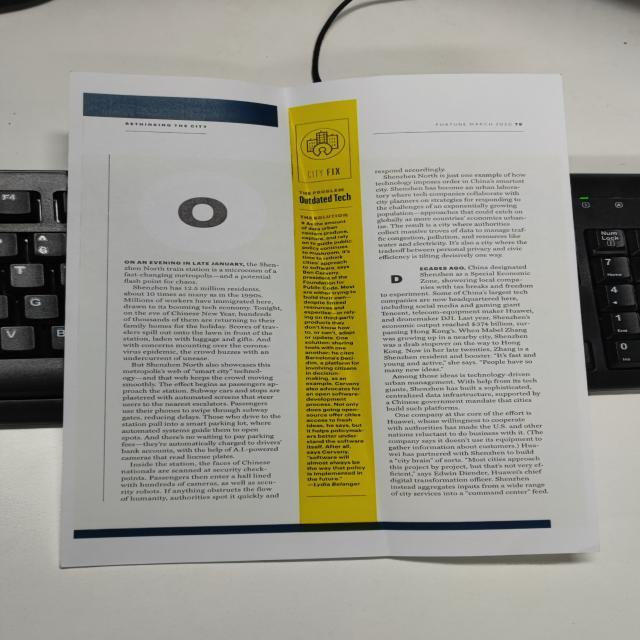document: (61, 72, 597, 566)
